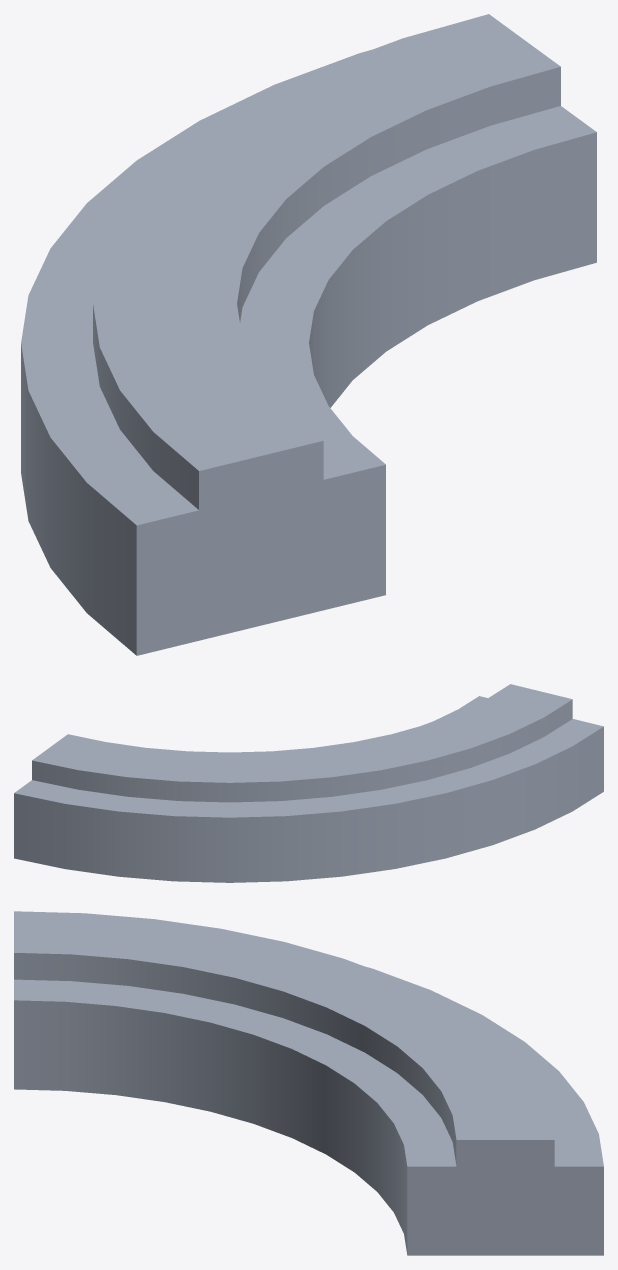
The model's file is monorail_trackCornerSmall.fbx.
The picture shows the model from 3 angles, top to bottom: view 1: azimuth 30°, elevation 25°; view 2: azimuth 150°, elevation 25°; view 3: azimuth 270°, elevation 25°; orthographic projection. The views are drawn at different scales.
Visible parts, largest first — view 1: monorail_trackCornerSmall; view 2: monorail_trackCornerSmall; view 3: monorail_trackCornerSmall.
Boxes of the visible parts, x1,y1,x2,y2 form: monorail_trackCornerSmall: (21, 14, 596, 655); monorail_trackCornerSmall: (14, 684, 603, 882); monorail_trackCornerSmall: (14, 911, 603, 1255).
Size of the model in its own units: 6 by 1.3 by 6.
